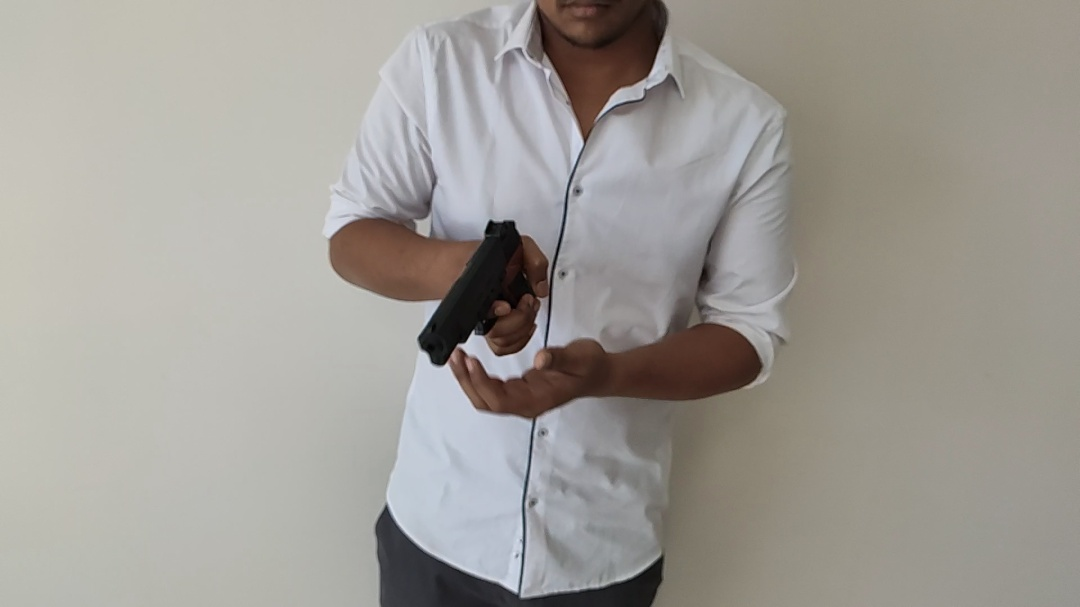gun: (416, 219, 524, 369)
